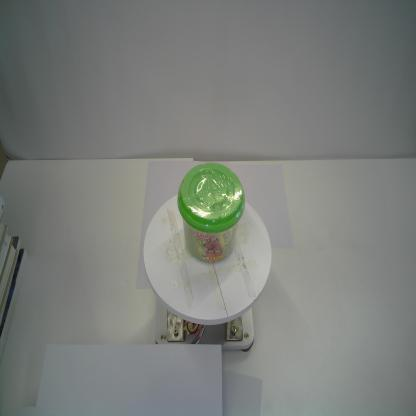Instant Drink: (176, 162, 246, 264)
